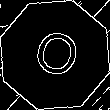O_S: (27, 24, 83, 86)
